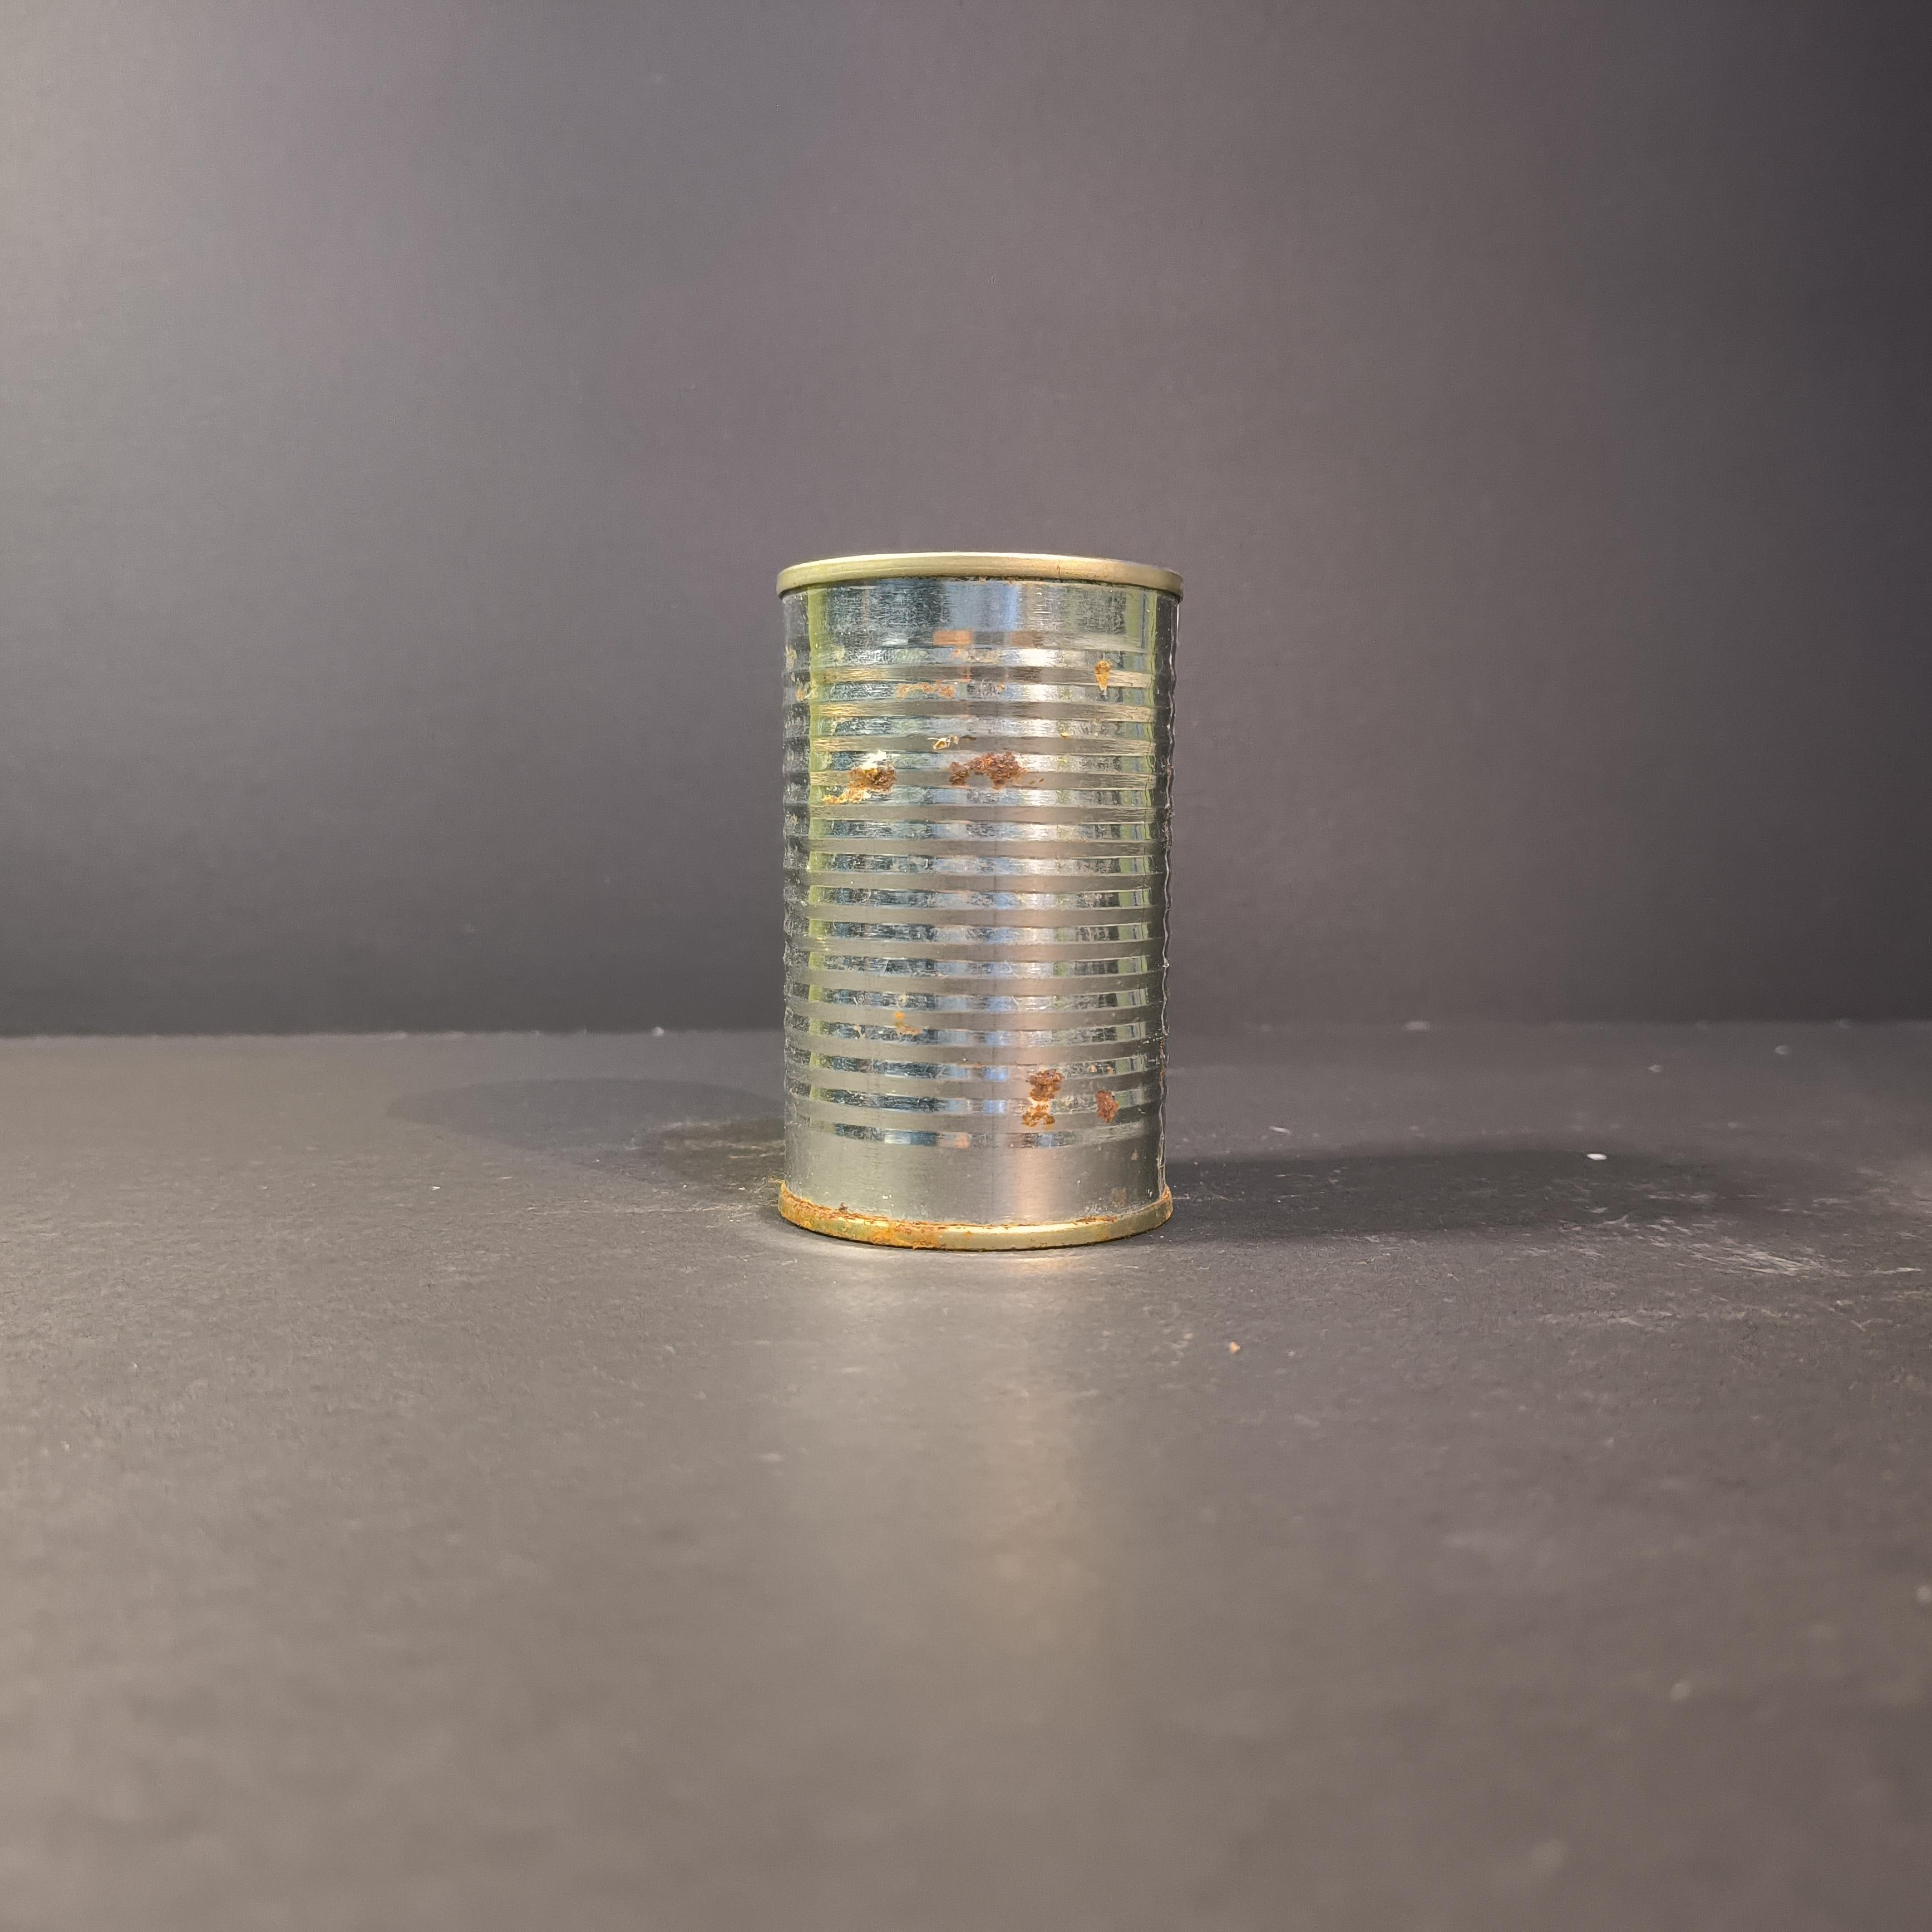Rusted: (764, 524, 1194, 1277)
